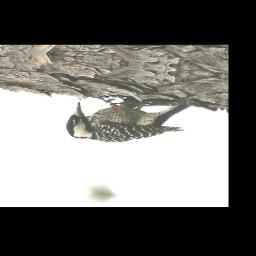Woodpecker: (64, 86, 192, 152)
